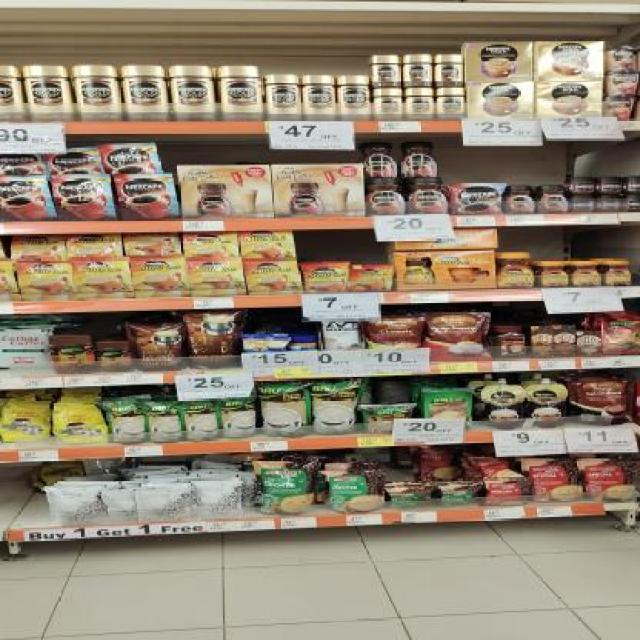Coffee: (116, 174, 179, 218), (56, 176, 113, 221), (74, 258, 134, 299), (125, 66, 167, 122), (0, 177, 54, 220), (17, 260, 75, 300), (76, 66, 116, 122), (221, 66, 261, 122), (188, 258, 246, 296), (134, 257, 186, 298), (28, 66, 66, 122), (174, 66, 212, 122), (248, 259, 297, 295), (46, 148, 105, 175), (451, 183, 501, 214), (104, 145, 159, 173), (14, 234, 68, 261), (183, 231, 239, 257), (496, 253, 536, 289), (123, 232, 182, 256), (410, 178, 448, 214), (241, 231, 293, 257), (304, 75, 334, 120), (367, 177, 402, 215), (341, 76, 370, 121), (363, 142, 399, 178), (306, 263, 352, 291), (270, 74, 298, 120), (68, 234, 121, 258), (400, 142, 435, 176), (0, 153, 43, 174), (407, 88, 433, 121), (377, 88, 403, 121), (538, 185, 568, 213), (406, 55, 432, 87), (440, 88, 466, 120), (374, 55, 398, 88), (437, 55, 461, 88), (506, 186, 534, 214), (572, 260, 600, 286), (542, 261, 569, 287), (607, 260, 631, 286), (600, 195, 626, 212), (572, 177, 596, 194), (571, 196, 595, 213), (600, 176, 625, 192)
